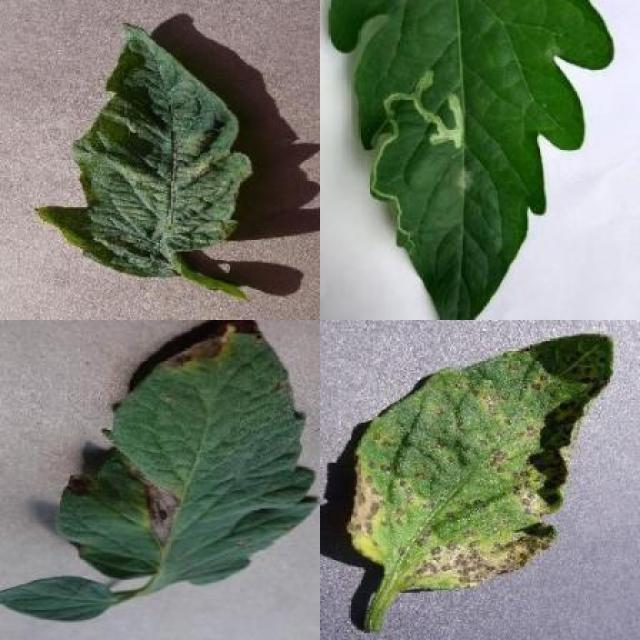Early Blight: (54, 322, 320, 584)
Healthy: (0, 574, 113, 622)
Leaf Miner: (329, 0, 616, 320)
Septoria: (348, 332, 615, 592)
Spider Mites: (34, 20, 255, 277)
